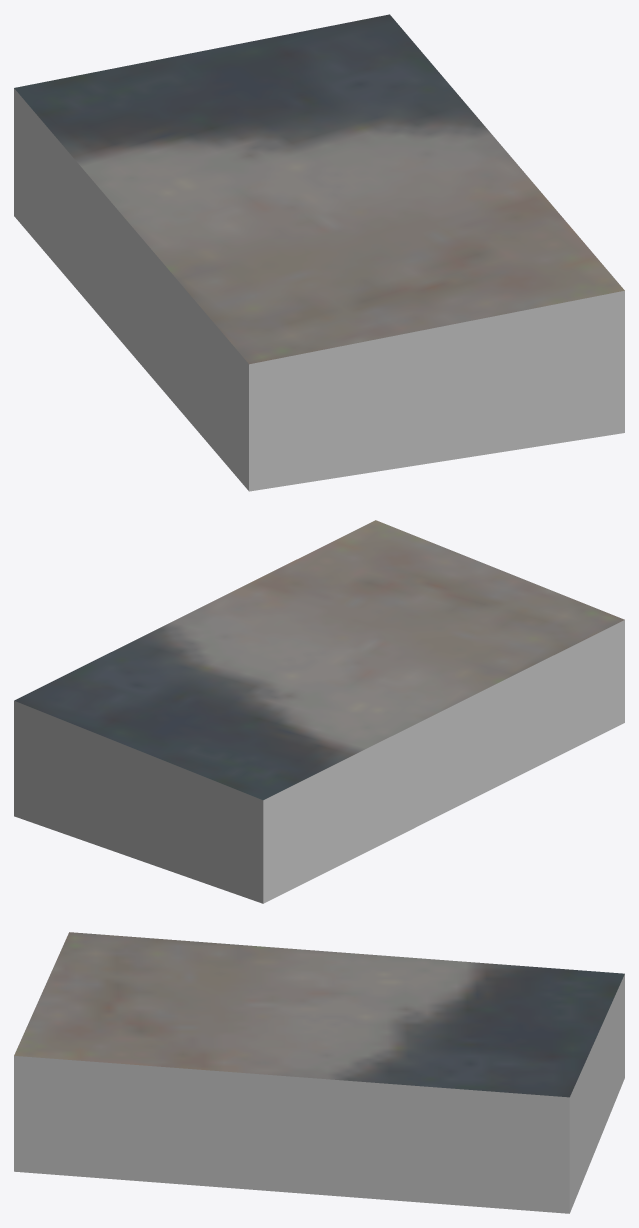
The model's file is DEBW_0010007TxhG.gltf.
3 renders of one model, top to bottom at view 1: azimuth 30°, elevation 25°; view 2: azimuth 150°, elevation 25°; view 3: azimuth 270°, elevation 25°, orthographic. The views are drawn at different scales.
Parts seen in each view (by area): view 1: Z_UP; view 2: Z_UP; view 3: Z_UP.
Boxes of the visible parts, x1,y1,x2,y2 form: Z_UP: (14,14,624,491); Z_UP: (14,520,624,903); Z_UP: (14,932,624,1213).
Size of the model in its own units: 8.24 by 2.51 by 11.95.
2 materials, 1 textured.
